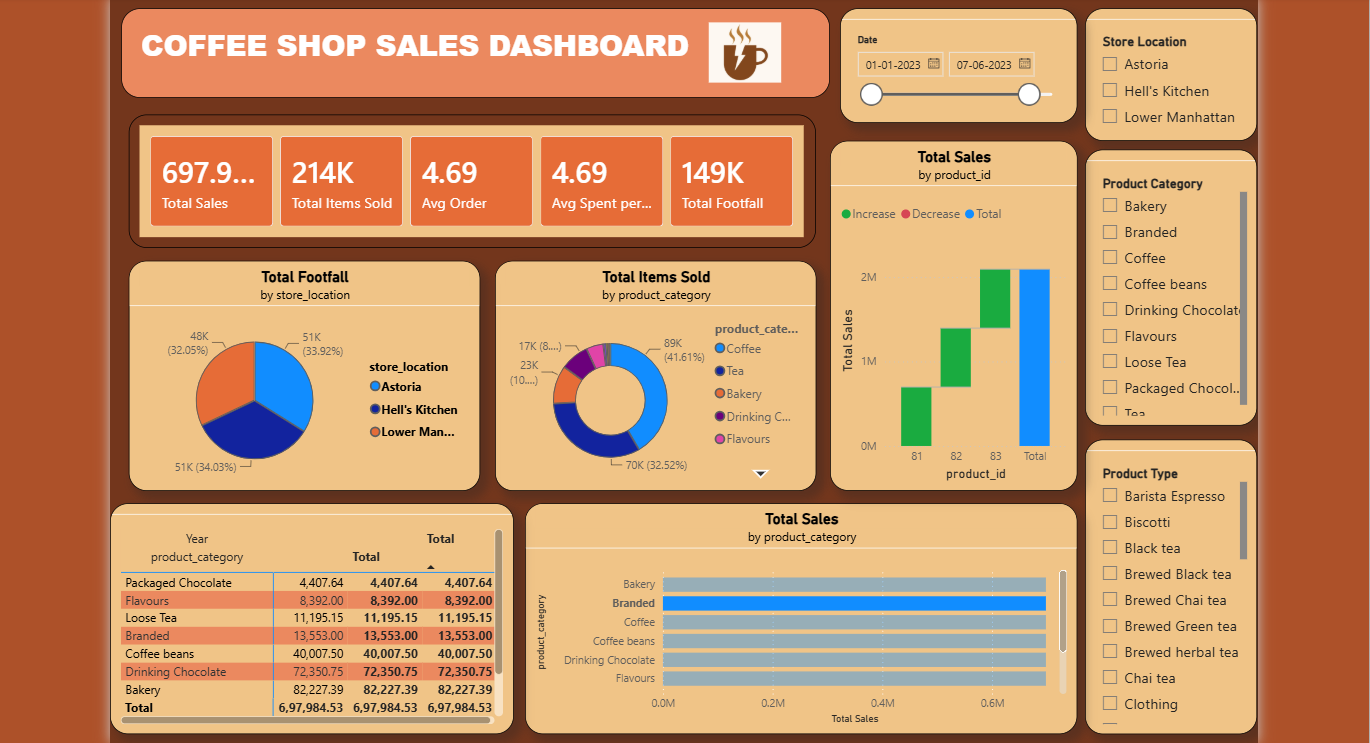

This screenshot's page, from the dashboard's own definition file:
{"tool":"powerbi","page":{"name":"Overview","canvas":[1280,832],"ordinal":0},"visuals":[{"type":"slicer","fields":{"Values":["dim Store.store_location"]},"box":[1087.4,12.5,192.4,147.8],"z":0},{"type":"slicer","fields":{"Values":["dim product.product_category"]},"box":[1087.4,170.1,192.4,308.1],"z":1000},{"type":"slicer","fields":{"Values":["dim product.product_type"]},"box":[1087.4,493.5,192.4,329],"z":2000},{"type":"donutChart","fields":{"Category":["Fact Sale.product_category"],"Y":["Fact Sale.Total Items Sold"]},"box":[429.4,294.2,358.3,256.5],"z":3000},{"type":"pieChart","fields":{"Y":["Fact Sale.Total Footfall"],"Series":["dim Store.store_location"]},"box":[20.9,294.2,391.7,256.5],"z":4000},{"type":"clusteredBarChart","fields":{"Category":["dim product.product_category"],"Y":["Fact Sale.Total Sales"]},"box":[462.8,564.6,616.2,257.9],"z":5000},{"type":"pivotTable","fields":{"Rows":["Fact Sale.product_category"],"Columns":["Dim Calendar.Date.Variation.Date Hierarchy.Year","Dim Calendar.Date.Variation.Date Hierarchy.Quarter","Dim Calendar.Date.Variation.Date Hierarchy.Month","Dim Calendar.Date.Variation.Date Hierarchy.Day"],"Values":["Fact Sale.Total Sales"]},"box":[0,564.6,450.3,257.9],"z":6000},{"type":"textbox","box":[12.5,12.5,790.5,100.4],"z":7000},{"type":"cardVisual","fields":{"Data":["Fact Sale.Total Sales","Fact Sale.Total Items Sold","Fact Sale.Avg Order","Fact Sale.Avg Spent per Order","Fact Sale.Total Footfall"]},"box":[20.9,131,766.8,149.2],"z":8000},{"type":"slicer","fields":{"Values":["Dim Calendar.Date"]},"box":[814.2,12.5,264.9,128.3],"z":8001},{"type":"waterfallChart","fields":{"Y":["Fact Sale.Total Sales"],"Category":["dim Store.product_id"]},"box":[803,160.3,276,390.4],"z":8002},{"type":"image","box":[667.8,25.1,80.9,73.9],"z":8003}]}

Visuals, with their boxes on the page's 1280x832 design canvas (x1, y1, x2, y2). These are canvas units, not pixel positions in the 1370x743 screenshot, which may show the page scaled, cropped or inside an application window:
slicer - dim Store.store_location: box=[1087, 12, 1280, 160]
slicer - dim product.product_category: box=[1087, 170, 1280, 478]
slicer - dim product.product_type: box=[1087, 494, 1280, 822]
donutChart - Fact Sale.product_category x Fact Sale.Total Items Sold: box=[429, 294, 788, 551]
pieChart - Fact Sale.Total Footfall x dim Store.store_location: box=[21, 294, 413, 551]
clusteredBarChart - dim product.product_category x Fact Sale.Total Sales: box=[463, 565, 1079, 822]
pivotTable - Fact Sale.product_category x Dim Calendar.Date.Variation.Date Hierarchy.Year: box=[0, 565, 450, 822]
textbox: box=[12, 12, 803, 113]
cardVisual - Fact Sale.Total Sales x Fact Sale.Total Items Sold: box=[21, 131, 788, 280]
slicer - Dim Calendar.Date: box=[814, 12, 1079, 141]
waterfallChart - Fact Sale.Total Sales x dim Store.product_id: box=[803, 160, 1079, 551]
image: box=[668, 25, 749, 99]
